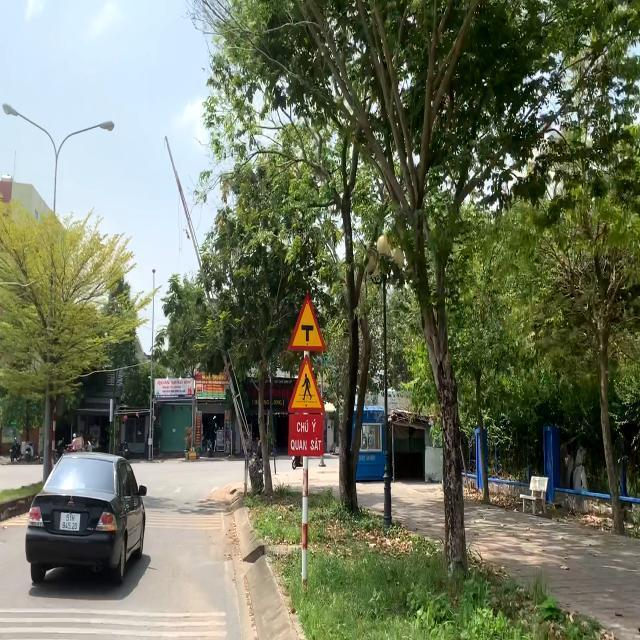205-duong-giao-nhau: (288, 294, 326, 354)
224-duong-nguoi-di-bo-cat-ngang: (287, 356, 327, 412)
